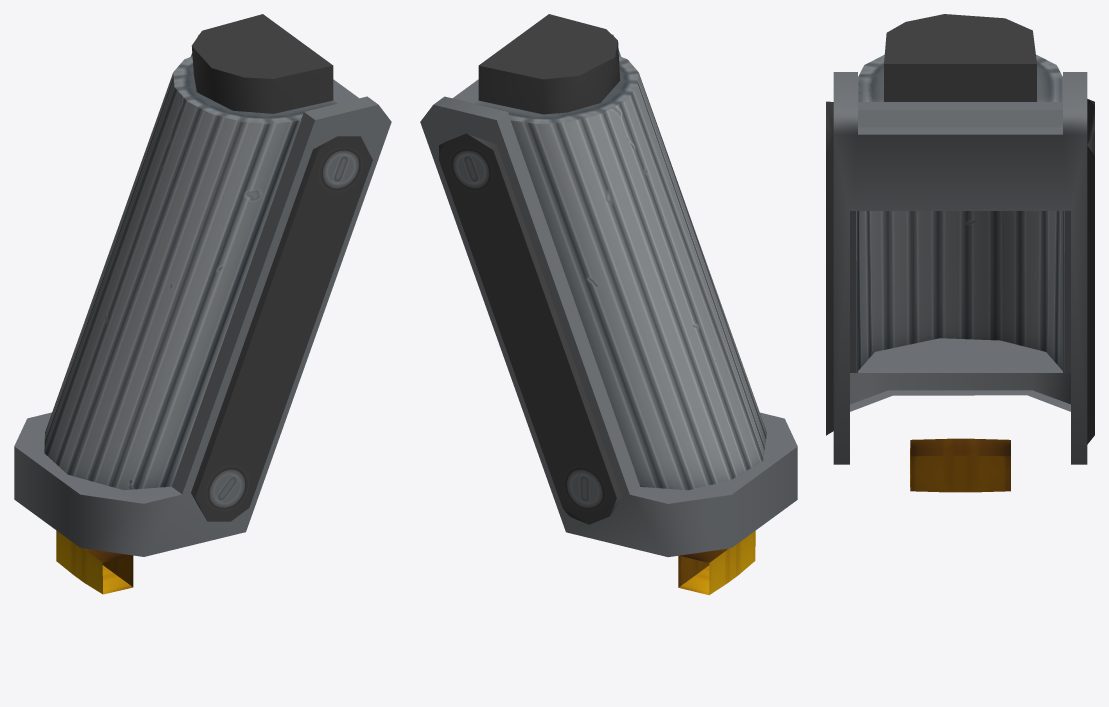
Rendered from env_ruin_container_02_lod1.fbx.
3 views of the same model, side by side, from view 1: azimuth 30°, elevation 25°; view 2: azimuth 150°, elevation 25°; view 3: azimuth 270°, elevation 25° (orthographic). The views are drawn at different scales.
Visible parts, largest first — view 1: env_ruin_container_02_lod1; view 2: env_ruin_container_02_lod1; view 3: env_ruin_container_02_lod1.
Part boxes in pixels (x1=…): env_ruin_container_02_lod1: x1=14, y1=14, x2=391, y2=594; env_ruin_container_02_lod1: x1=420, y1=14, x2=797, y2=595; env_ruin_container_02_lod1: x1=826, y1=14, x2=1094, y2=492.
Bounding box in the file's own units: 47.34 × 92.39 × 35.42.
